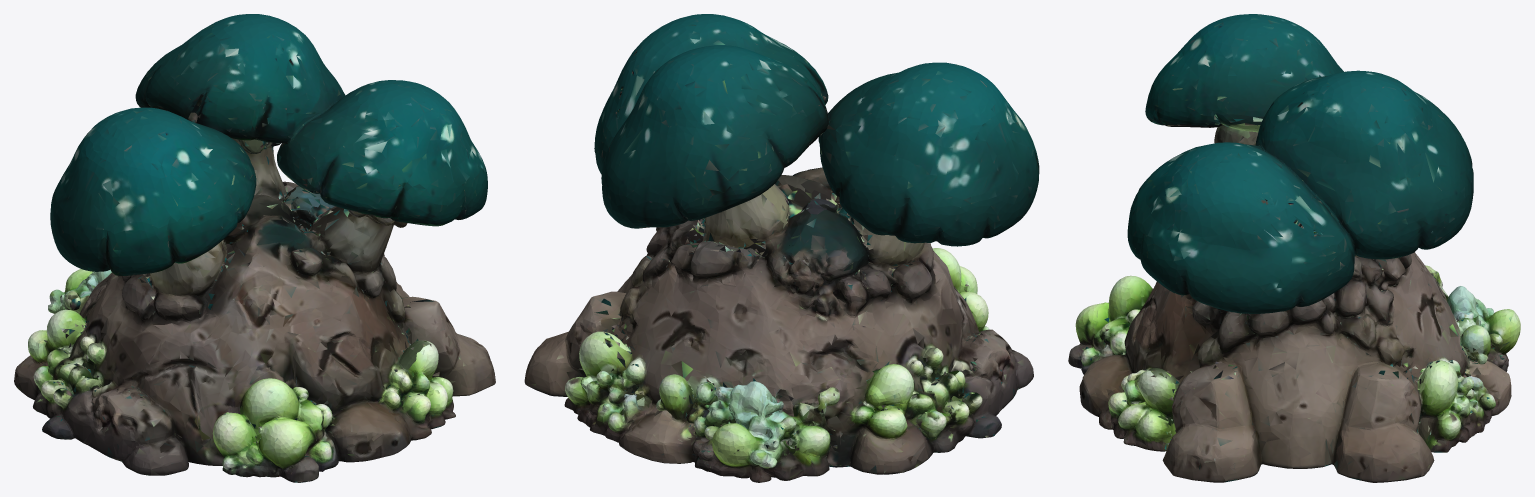
The model's file is fungal-node.glb.
The picture shows the model from 3 angles, left to right: view 1: azimuth 30°, elevation 25°; view 2: azimuth 150°, elevation 25°; view 3: azimuth 270°, elevation 25°; orthographic projection. The views are drawn at different scales.
Visible parts, largest first — view 1: geometry_0; view 2: geometry_0; view 3: geometry_0.
Part boxes in pixels (bbox=[...]): geometry_0: bbox=[14, 14, 495, 482]; geometry_0: bbox=[524, 14, 1039, 482]; geometry_0: bbox=[1068, 14, 1520, 482].
Bounding box in the file's own units: 2.55 × 2 × 2.5.
1 material, 1 textured.
